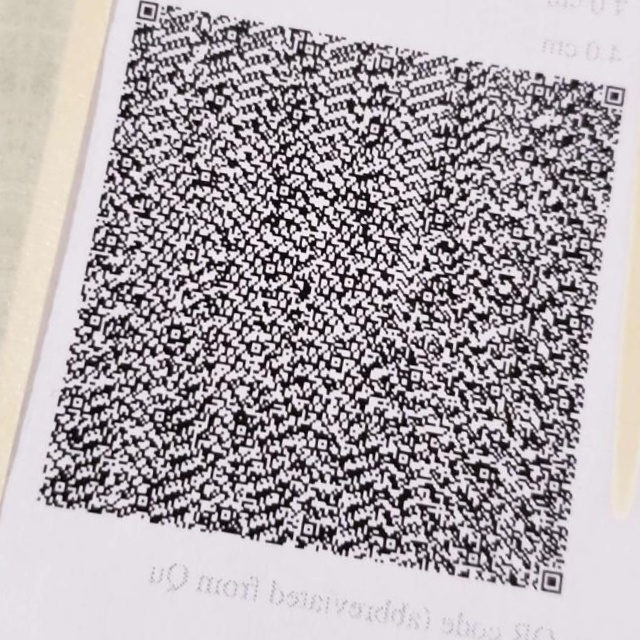qr-code: (15, 0, 640, 610)
